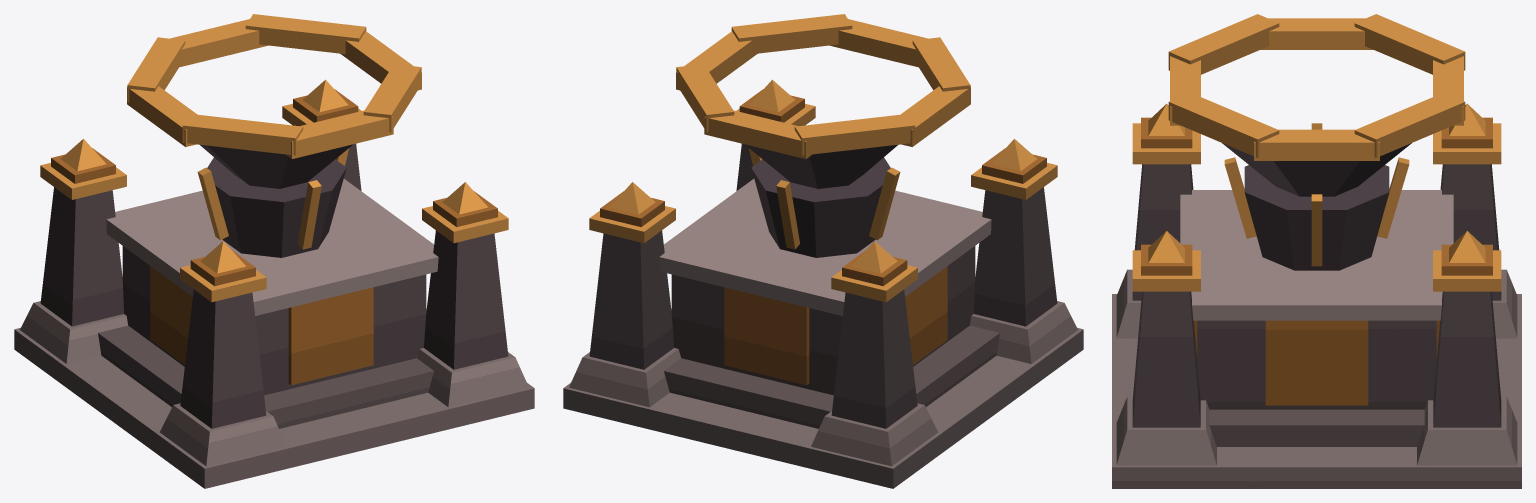
File: altar_frame.glb
The picture shows the model from 3 angles, left to right: view 1: azimuth 30°, elevation 25°; view 2: azimuth 150°, elevation 25°; view 3: azimuth 270°, elevation 25°; orthographic projection. The views are drawn at different scales.
Size of the model in its own units: 1.2 by 1.05 by 1.2.
Materials: 1 (1 with a texture image).
